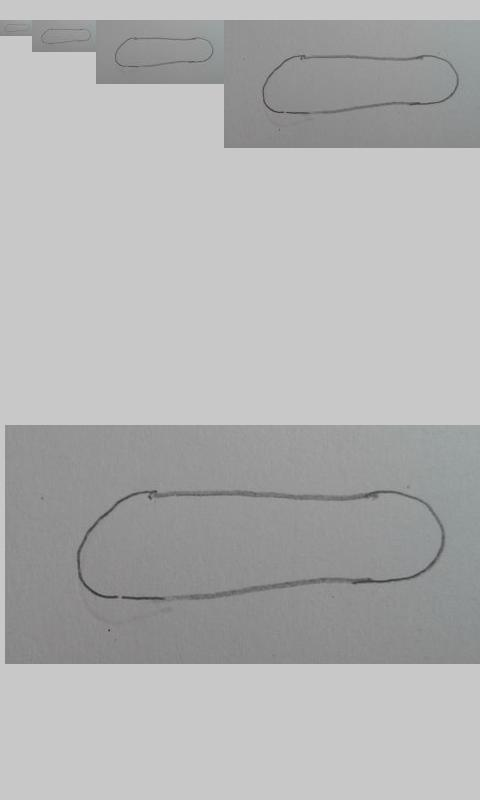chip: (77, 487, 449, 603), (261, 54, 459, 115), (114, 36, 214, 68), (40, 28, 92, 45), (4, 23, 31, 33)
